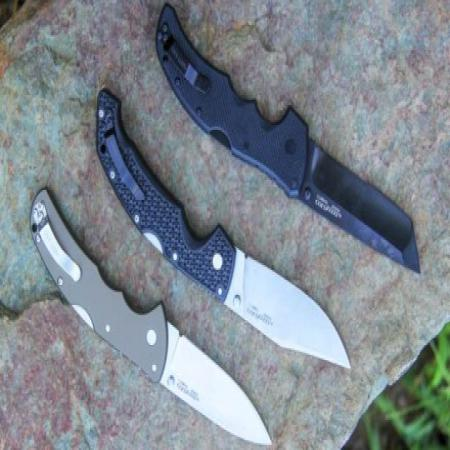long weapon: (294, 137, 424, 283), (219, 247, 352, 375)
